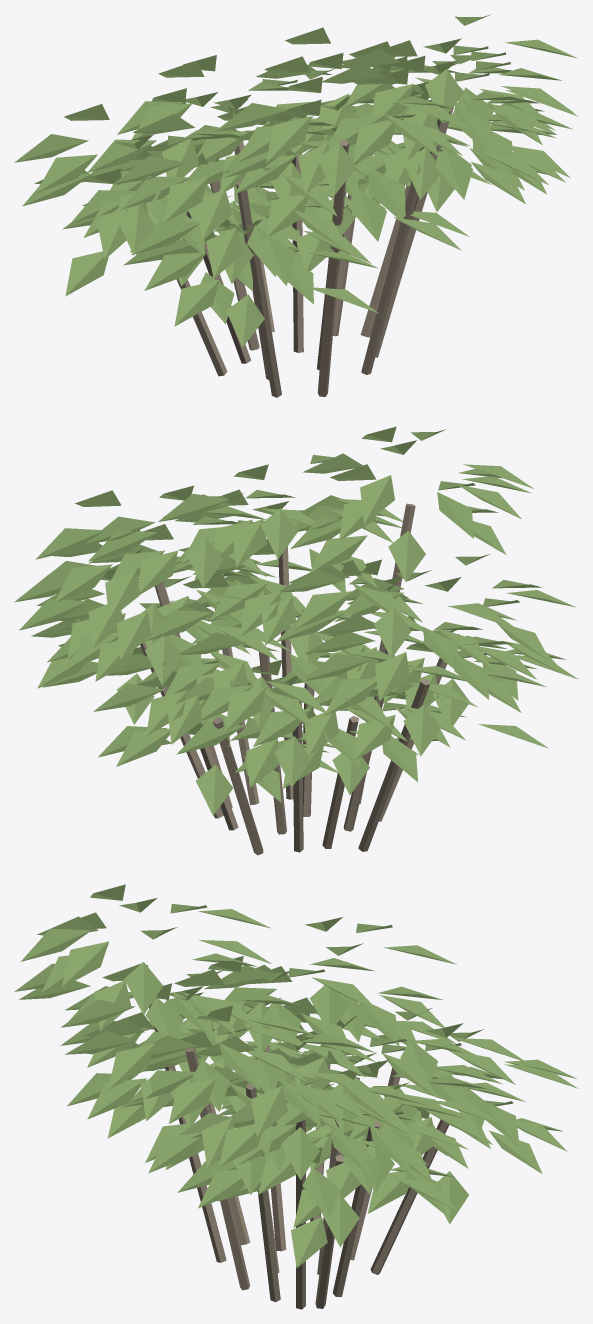
Rendered from dining-shrub.glb.
The picture shows the model from 3 angles, top to bottom: view 1: azimuth 30°, elevation 25°; view 2: azimuth 150°, elevation 25°; view 3: azimuth 270°, elevation 25°; orthographic projection. The views are drawn at different scales.
Parts seen in each view (by area): view 1: dining-shrub; view 2: dining-shrub; view 3: dining-shrub.
Part boxes in pixels (<box>): dining-shrub: <box>14,14,578,397</box>; dining-shrub: <box>14,426,577,855</box>; dining-shrub: <box>14,884,578,1309</box>.
Bounding box in the file's own units: 1.99 × 1.24 × 1.87.
